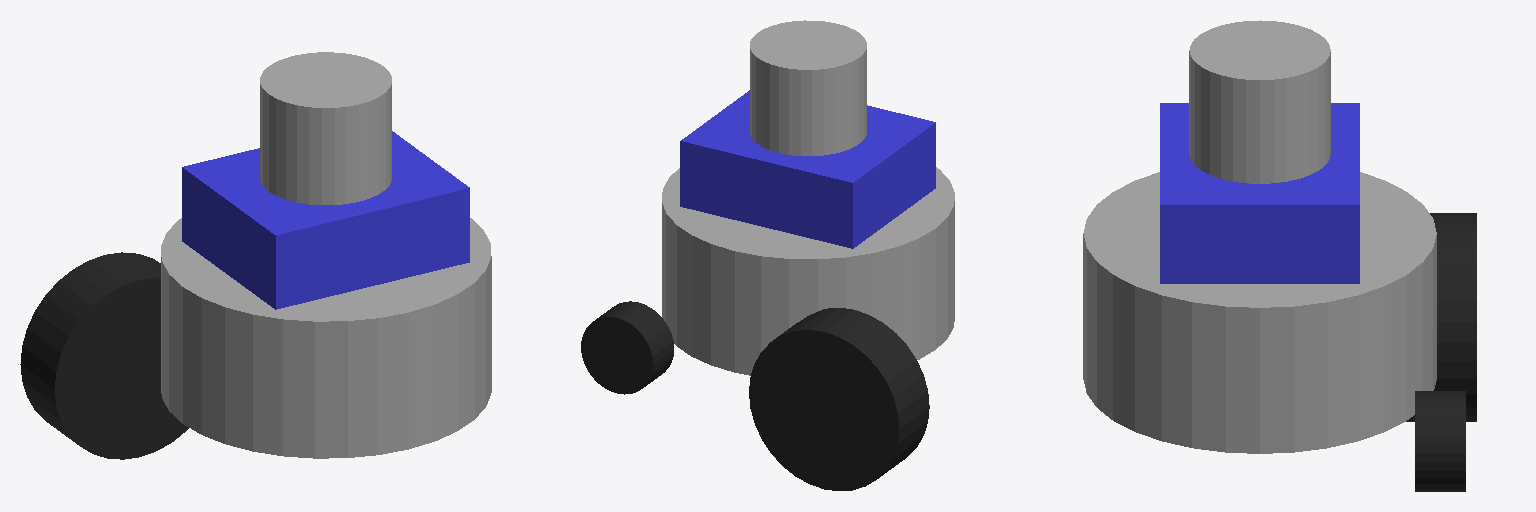
URDF robot description (evolved_robot):
<?xml version="1.0"?>
<robot name="evolved_robot">
  <material name="metal">
    <color rgba="0.7 0.7 0.7 1.0"/>
  </material>
  <material name="plastic">
    <color rgba="0.3 0.3 0.9 1.0"/>
  </material>
  <material name="rubber">
    <color rgba="0.1 0.1 0.1 1.0"/>
  </material>
  <material name="red">
    <color rgba="1.0 0.0 0.0 1.0"/>
  </material>
  <material name="wheel_material">
    <color rgba="0.2 0.2 0.2 1.0"/>
  </material>
  <link name="base_link">
    <visual>
      <geometry><cylinder radius="0.13334870393109813" length="0.12163389255815016"/></geometry>
      <material name="metal"/>
    </visual>
    <collision>
      <geometry><cylinder radius="0.13334870393109813" length="0.12163389255815016"/></geometry>
    </collision>
    <inertial>
      <mass value="5.0"/>
      <inertia ixx="0.056783695282632184" ixy="0" ixz="0" 
               iyy="0.056783695282632184" iyz="0" 
               izz="0.08890938420051833"/>
    </inertial>
  </link>
  <link name="link1">
    <visual>
      <geometry><box size="0.18096636305530917 0.15082991968815512 0.13188925897552822"/></geometry>
      <material name="plastic"/>
    </visual>
    <collision>
      <geometry><box size="0.18096636305530917 0.15082991968815512 0.13188925897552822"/></geometry>
    </collision>
    <inertial>
      <mass value="0.5"/>
      <inertia ixx="0.0033453701088541066" ixy="0" ixz="0" 
               iyy="0.004178633432548326" iyz="0" 
               izz="0.0046248741025501075"/>
    </inertial>
  </link>
  <joint name="joint1" type="revolute">
    <parent link="base_link"/>
    <child link="link1"/>
    <origin xyz="0 0 0.06081694627907508" rpy="0 0 0"/>
    <axis xyz="-0.7346885111915975 0.3966675082514396 -0.5503523229901626"/>
    <dynamics damping="0.6462434037373566" friction="0.1"/>
    <limit lower="-1.6618231321066617" upper="1.099" effort="100" velocity="100"/>
  </joint>
  <link name="link2">
    <visual>
      <geometry>
        <cylinder radius="0.0378500347848431" length="0.0386748151585726"/>
      </geometry>
      <material name="wheel_material"/>
    </visual>
    <collision>
      <geometry>
        <cylinder radius="0.0378500347848431" length="0.0386748151585726"/>
      </geometry>
    </collision>
    <inertial>
      <mass value="1.0"/>
      <inertia ixx="0.0004828013939326045" ixy="0" ixz="0" 
               iyy="0.0004828013939326045" iyz="0" 
               izz="0.0007163125666069162"/>
    </inertial>
  </link>
  <joint name="joint2" type="continuous">
    <parent link="base_link"/>
    <child link="link2"/>
    <origin xyz="0.11081785690821773 0.13587955095397852 -0.06081694627907508" rpy="1.5708 0 0"/>
    <axis xyz="0 1 0"/>
    <dynamics damping="0.7316308859628529" friction="0.1"/>
  </joint>
  <link name="link3">
    <visual>
      <geometry><cylinder radius="0.053343358383716066" length="0.20467690805826394"/></geometry>
      <material name="metal"/>
    </visual>
    <collision>
      <geometry><cylinder radius="0.053343358383716066" length="0.20467690805826394"/></geometry>
    </collision>
    <inertial>
      <mass value="0.5"/>
      <inertia ixx="0.004202431528604312" ixy="0" ixz="0" 
               iyy="0.004202431528604312" iyz="0" 
               izz="0.0014227569418267855"/>
    </inertial>
  </link>
  <joint name="joint3" type="prismatic">
    <parent link="base_link"/>
    <child link="link3"/>
    <origin xyz="0 0 0.11081694627907508" rpy="0 0 0"/>
    <axis xyz="-0.2064943251065432 0.8957744084917558 -0.3936347327028423"/>
    <dynamics damping="0.757853448114933" friction="0.1"/>
    <limit lower="-1.6528999677806473" upper="1.1222627562905743" effort="100" velocity="100"/>
  </joint>
  <link name="link4">
    <visual>
      <geometry>
        <cylinder radius="0.07885528777103218" length="0.054982276945663475"/>
      </geometry>
      <material name="wheel_material"/>
    </visual>
    <collision>
      <geometry>
        <cylinder radius="0.07885528777103218" length="0.054982276945663475"/>
      </geometry>
    </collision>
    <inertial>
      <mass value="1.0"/>
      <inertia ixx="0.0018064600005405441" ixy="0" ixz="0" 
               iyy="0.0018064600005405441" iyz="0" 
               izz="0.0031090782047261487"/>
    </inertial>
  </link>
  <joint name="joint4" type="continuous">
    <parent link="base_link"/>
    <child link="link4"/>
    <origin xyz="-0.11081785690821773 0.13587955095397852 -0.06081694627907508" rpy="1.5708 0 0"/>
    <axis xyz="0 1 0"/>
    <dynamics damping="0.7586822519868953" friction="0.1"/>
  </joint>
</robot>

--- Render facts (derived) ---
Views: 3 orthographic renders of the robot side by side, from view 1: azimuth 30°, elevation 25°; view 2: azimuth 150°, elevation 25°; view 3: azimuth 270°, elevation 25°.
Robot: evolved_robot — 5 links, 4 joints (1 revolute, 2 continuous, 1 prismatic); root link base_link; default pose: every joint at zero.
Links seen in each view (by area): view 1: base_link, link1, link4, link3; view 2: base_link, link4, link1, link3, link2; view 3: base_link, link1, link3, link4, link2.
Boxes of the visible links, <box> form: base_link: <box>161,218,491,458</box>; link1: <box>182,131,469,309</box>; link4: <box>20,252,188,459</box>; link3: <box>260,52,391,204</box>; base_link: <box>662,167,954,375</box>; link4: <box>749,308,929,490</box>; link1: <box>680,90,935,248</box>; link3: <box>750,20,866,155</box>; link2: <box>581,301,673,394</box>; base_link: <box>1083,172,1436,453</box>; link1: <box>1160,103,1359,283</box>; link3: <box>1189,20,1330,183</box>; link4: <box>1406,213,1476,421</box>; link2: <box>1415,391,1465,491</box>.
Bounding box of the posed robot: 0.3383 × 0.2967 × 0.3528 m (x, y, z).
Geometry: primitives only (box / cylinder / sphere), no mesh files.